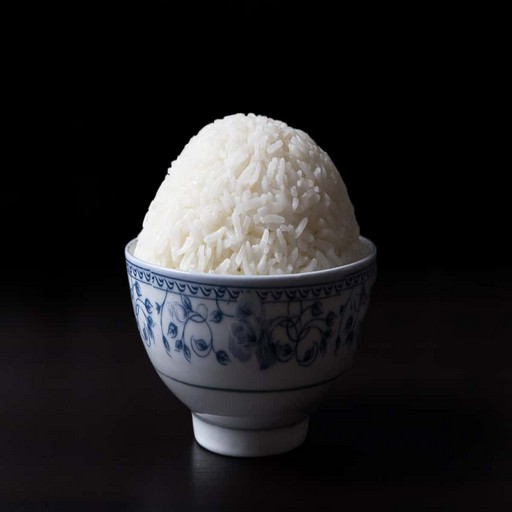rice: (209, 135, 303, 243)
